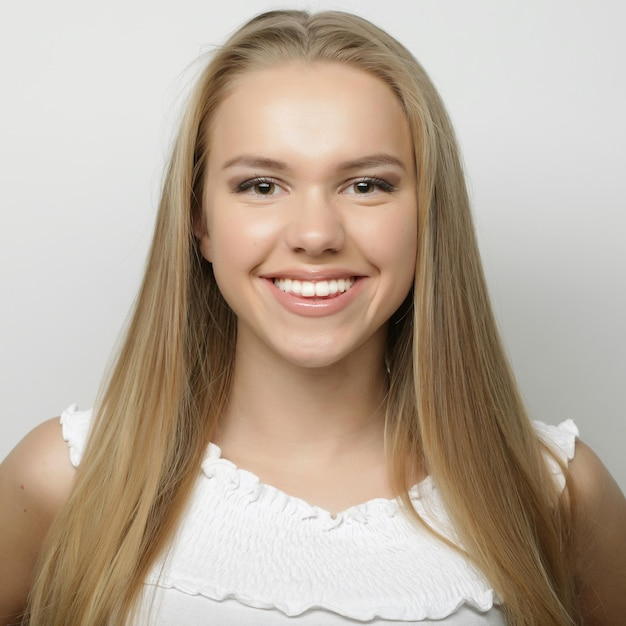teen: (179, 23, 459, 419)
